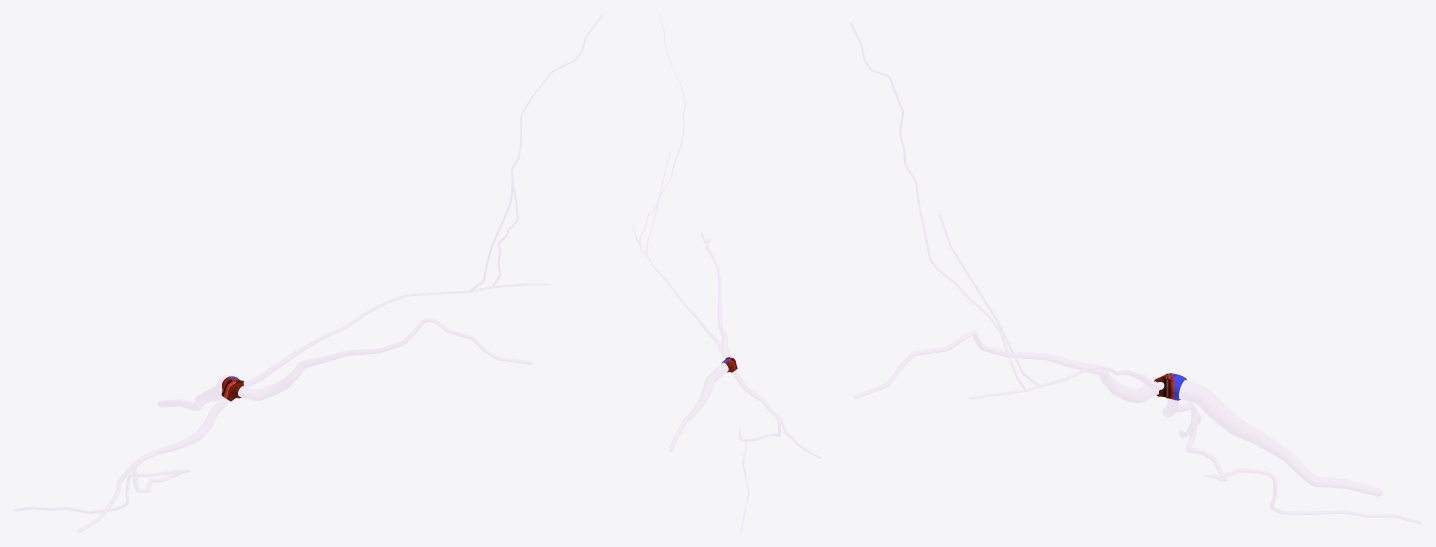
File: neuron.glb
3 views of the same model, side by side, from view 1: azimuth 30°, elevation 25°; view 2: azimuth 150°, elevation 25°; view 3: azimuth 270°, elevation 25° (orthographic). The views are drawn at different scales.
Visible parts, largest first — view 1: Branches; view 2: Branches; view 3: Branches.
Boxes of the visible parts, bbox=[...] form: Branches: bbox=[14, 14, 603, 532]; Branches: bbox=[632, 14, 821, 532]; Branches: bbox=[850, 23, 1421, 524].
Size of the model in its own units: 1.52 by 2.13 by 1.54.
Materials: 2 (1 with a texture image).
